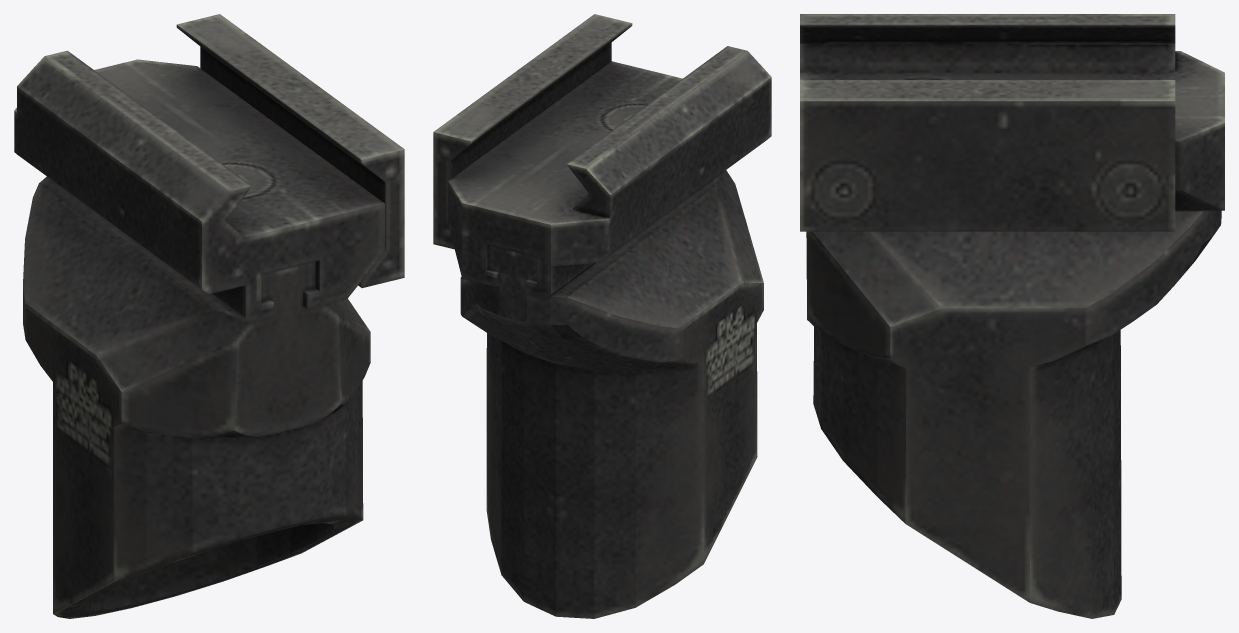
The picture shows the model from 3 angles, left to right: view 1: azimuth 30°, elevation 25°; view 2: azimuth 150°, elevation 25°; view 3: azimuth 270°, elevation 25°; orthographic projection. The views are drawn at different scales.
Parts seen in each view (by area): view 1: TW_5c1bc7752e221602b1779b34_PZ_Import; view 2: TW_5c1bc7752e221602b1779b34_PZ_Import; view 3: TW_5c1bc7752e221602b1779b34_PZ_Import.
Part boxes in pixels (x1,y1,x2,y2): TW_5c1bc7752e221602b1779b34_PZ_Import: (14,14,404,618); TW_5c1bc7752e221602b1779b34_PZ_Import: (433,14,771,618); TW_5c1bc7752e221602b1779b34_PZ_Import: (800,14,1224,618).
Size of the model in its own units: 0.019 by 0.0277 by 0.0399.
1 material, 1 textured.
